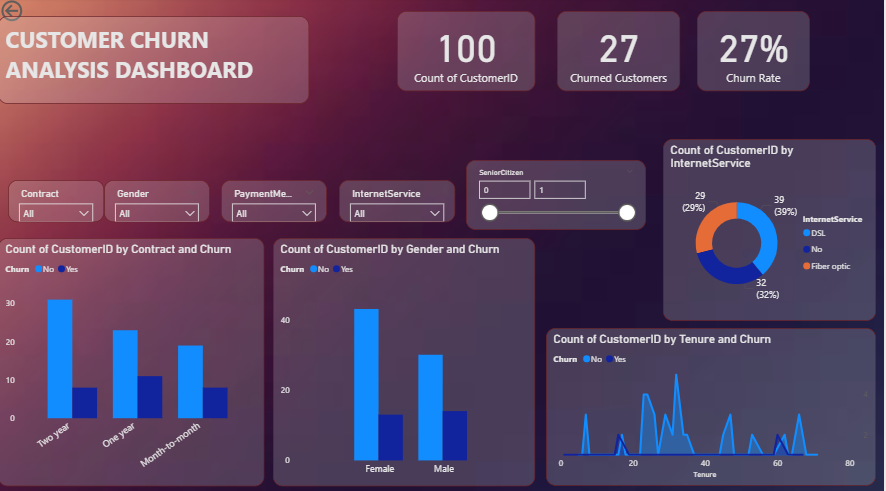

Layout of this report page (visuals, bound fields, positions):
{"tool":"powerbi","page":{"name":"Page 1","canvas":[1280,720],"ordinal":0},"visuals":[{"type":"card","fields":{"Values":["CountNonNull(cleaned_churn_data.CustomerID)"]},"box":[576.9,20.2,199.5,115.7],"z":0},{"type":"card","fields":{"Values":["cleaned_churn_data.Churned Customers"]},"box":[808.2,20.2,177.8,115.7],"z":1000},{"type":"card","fields":{"Values":["cleaned_churn_data.Churn Rate"]},"box":[1010.6,20.2,163.4,115.7],"z":2000},{"type":"clusteredColumnChart","fields":{"Category":["cleaned_churn_data.Contract"],"Y":["CountNonNull(cleaned_churn_data.CustomerID)"],"Series":["cleaned_churn_data.Churn"]},"box":[0,348.4,384.6,358.6],"z":3000},{"type":"actionButton","box":[0,0,100,40],"z":4000},{"type":"clusteredColumnChart","fields":{"Category":["cleaned_churn_data.Gender"],"Y":["CountNonNull(cleaned_churn_data.CustomerID)"],"Series":["cleaned_churn_data.Churn"]},"box":[397.6,348.4,378.8,358.6],"z":5000},{"type":"areaChart","fields":{"Category":["cleaned_churn_data.Tenure"],"Y2":["CountNonNull(cleaned_churn_data.CustomerID)"],"Series":["cleaned_churn_data.Churn"]},"box":[792.3,478.6,477.1,228.4],"z":6000},{"type":"donutChart","fields":{"Category":["cleaned_churn_data.InternetService"],"Y":["CountNonNull(cleaned_churn_data.CustomerID)"]},"box":[961.4,205.3,308,263.1],"z":7000},{"type":"slicer","fields":{"Values":["cleaned_churn_data.Gender"]},"box":[153.3,264.6,153.3,60.7],"z":8000},{"type":"slicer","fields":{"Values":["cleaned_churn_data.PaymentMethod"]},"box":[322.4,264.6,153.3,60.7],"z":9000},{"type":"slicer","fields":{"Values":["cleaned_churn_data.InternetService"]},"box":[493,264.6,167.7,60.7],"z":10000},{"type":"slicer","fields":{"Values":["cleaned_churn_data.Contract"]},"box":[14.5,264.6,138.8,60.7],"z":11000},{"type":"slicer","fields":{"Values":["cleaned_churn_data.SeniorCitizen"]},"box":[676.6,235.7,260.2,101.2],"z":12000},{"type":"textbox","box":[0,27.5,449.6,127.2],"z":12001}]}

Visuals, with their boxes in screenshot pixels (x1, y1, x2, y2), scaled from the page's 1280x720 canvas onto the 886x491 screenshot:
card - CountNonNull(cleaned_churn_data.CustomerID): rect(399, 14, 537, 93)
card - cleaned_churn_data.Churned Customers: rect(559, 14, 682, 93)
card - cleaned_churn_data.Churn Rate: rect(700, 14, 813, 93)
clusteredColumnChart - cleaned_churn_data.Contract x CountNonNull(cleaned_churn_data.CustomerID): rect(0, 238, 266, 482)
actionButton: rect(0, 0, 69, 27)
clusteredColumnChart - cleaned_churn_data.Gender x CountNonNull(cleaned_churn_data.CustomerID): rect(275, 238, 537, 482)
areaChart - cleaned_churn_data.Tenure x CountNonNull(cleaned_churn_data.CustomerID): rect(548, 326, 879, 482)
donutChart - cleaned_churn_data.InternetService x CountNonNull(cleaned_churn_data.CustomerID): rect(665, 140, 879, 319)
slicer - cleaned_churn_data.Gender: rect(106, 180, 212, 222)
slicer - cleaned_churn_data.PaymentMethod: rect(223, 180, 329, 222)
slicer - cleaned_churn_data.InternetService: rect(341, 180, 457, 222)
slicer - cleaned_churn_data.Contract: rect(10, 180, 106, 222)
slicer - cleaned_churn_data.SeniorCitizen: rect(468, 161, 648, 230)
textbox: rect(0, 19, 311, 105)
